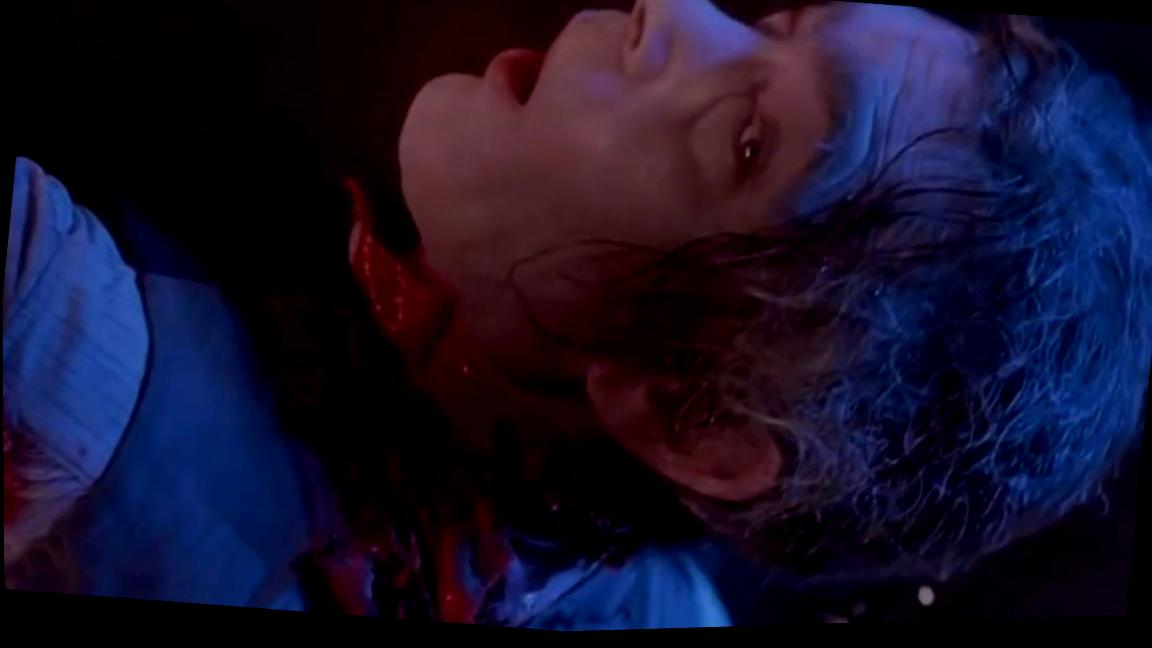Fire: (75, 154, 698, 631), (2, 422, 20, 526)
